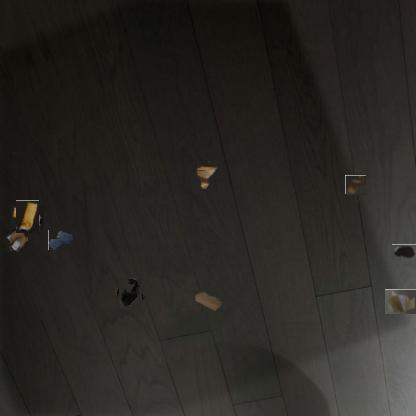dirty: (116, 279, 145, 307), (13, 203, 42, 231), (384, 289, 416, 314), (4, 226, 30, 252), (194, 161, 218, 189), (193, 290, 223, 312), (345, 174, 366, 194)
liquid: (48, 230, 73, 250), (392, 244, 416, 259)
